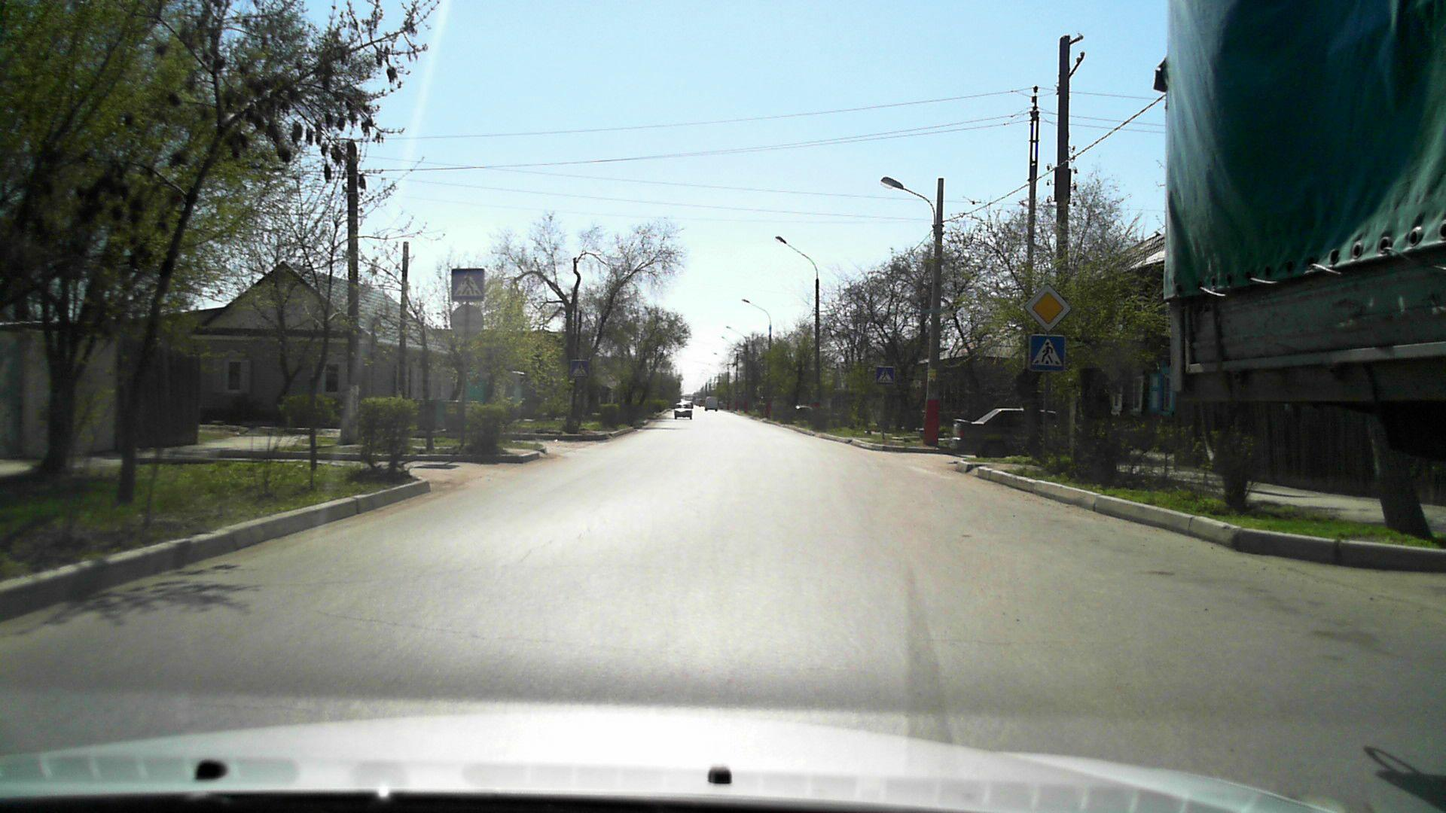road_sign: (1025, 285, 1070, 334), (1030, 335, 1066, 370), (451, 268, 485, 302), (875, 367, 895, 386), (570, 359, 589, 378)
